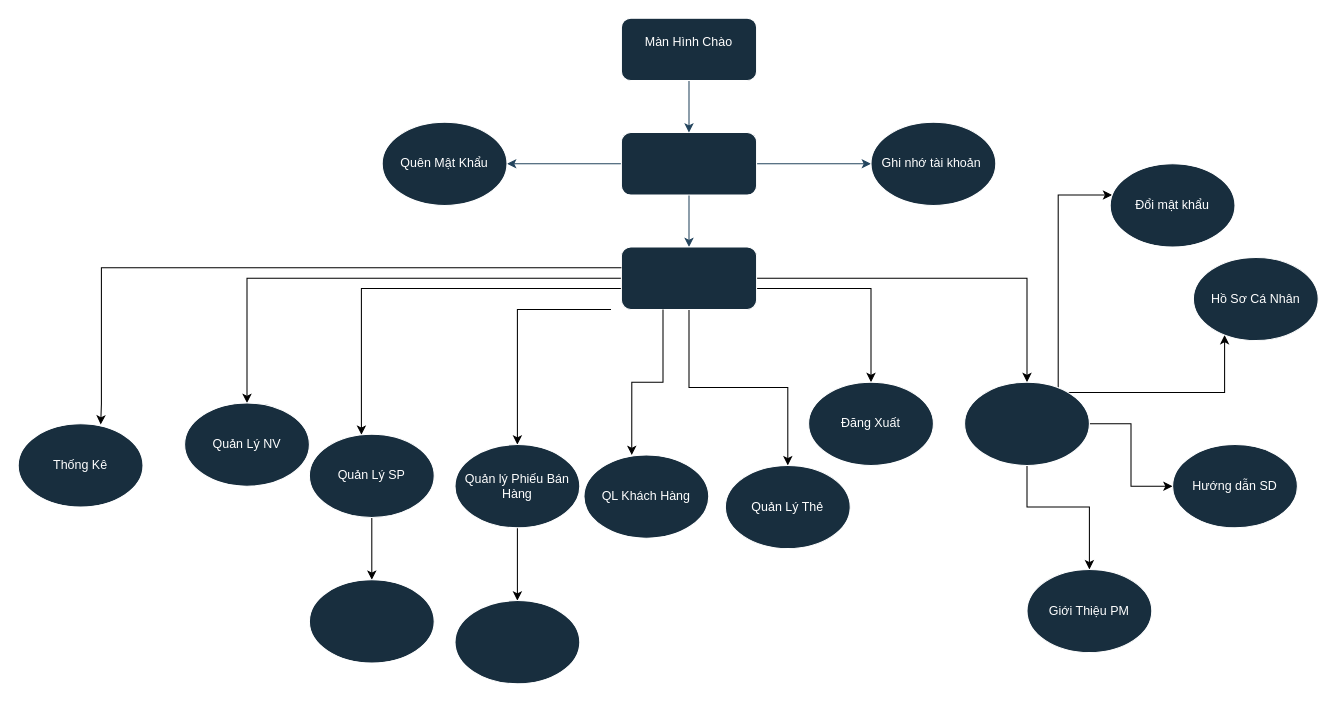
The diagram is 1336 pixels wide and 702 high, and some of its shapes have lost their labels. The shapes that lost their labels are listed below. From the top down, each one's centre as x and y in pixels, then its label:
point 688,163: Màn Hình Đăng Nhập
point 688,277: Màn Hình Chính
point 1026,423: Cài Đặt
point 371,621: Quản Lý Loại SP
point 517,642: Quản lý CT Phiếu Bán Hàng
